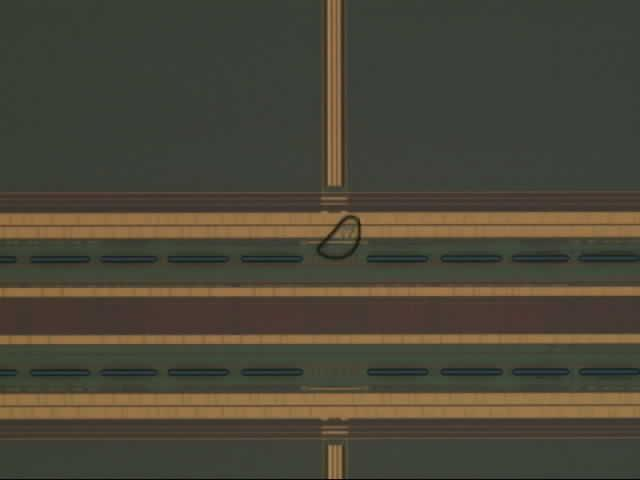PIQ PARTICLE: (316, 214, 363, 262)
